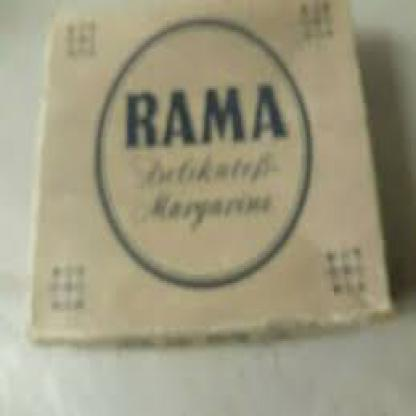CARDBOARD: (24, 0, 394, 339)
